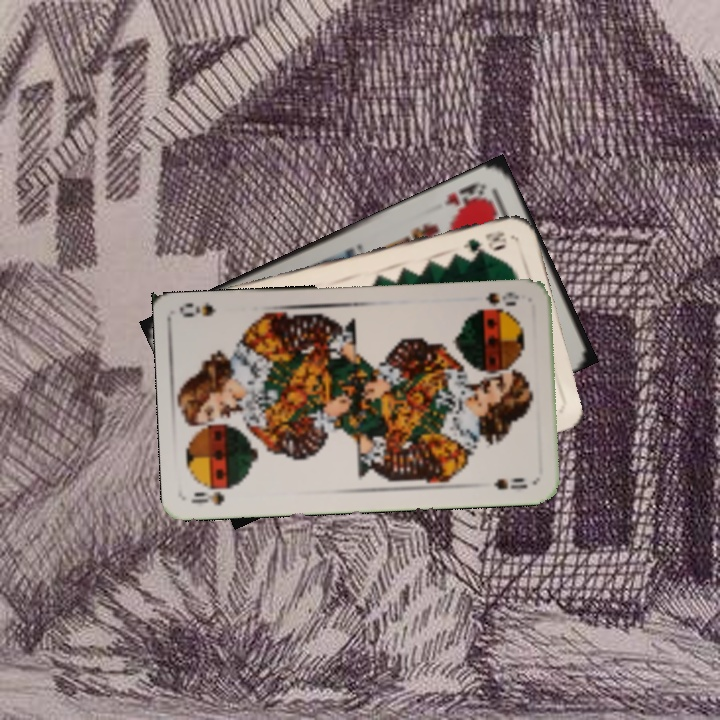G10: (459, 227, 510, 255)
HK: (440, 178, 489, 212)
SO: (473, 288, 522, 313), (187, 483, 235, 508)
